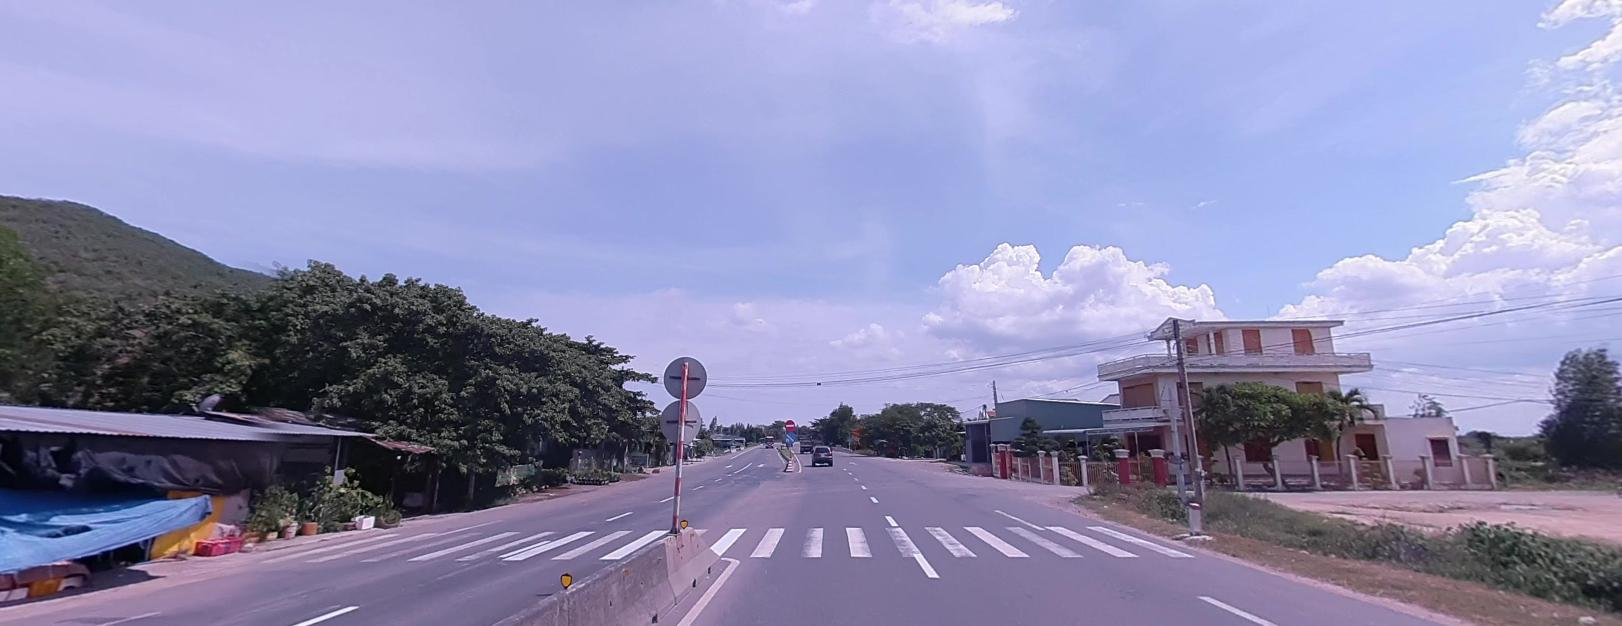Cam nguoc chieu: (784, 418, 794, 429)
Hieu lenh: (784, 431, 795, 441)
